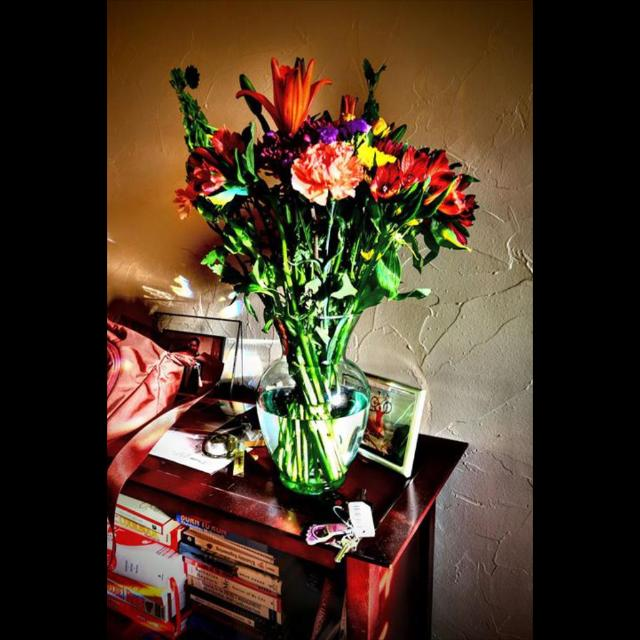Flower: (178, 98, 478, 252), (238, 54, 332, 138)
